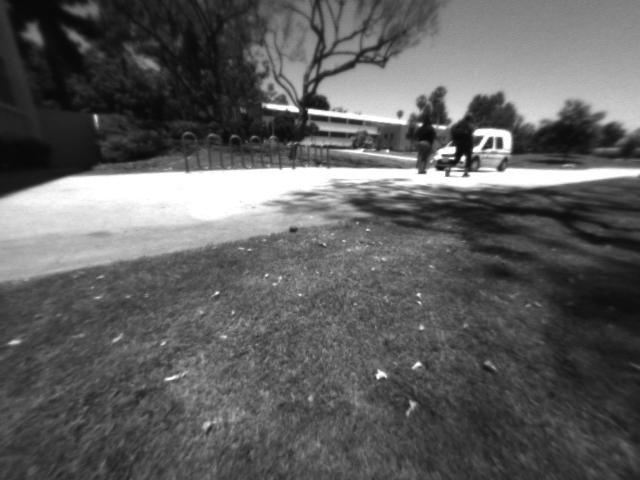dogtoy: (283, 216, 305, 240)
